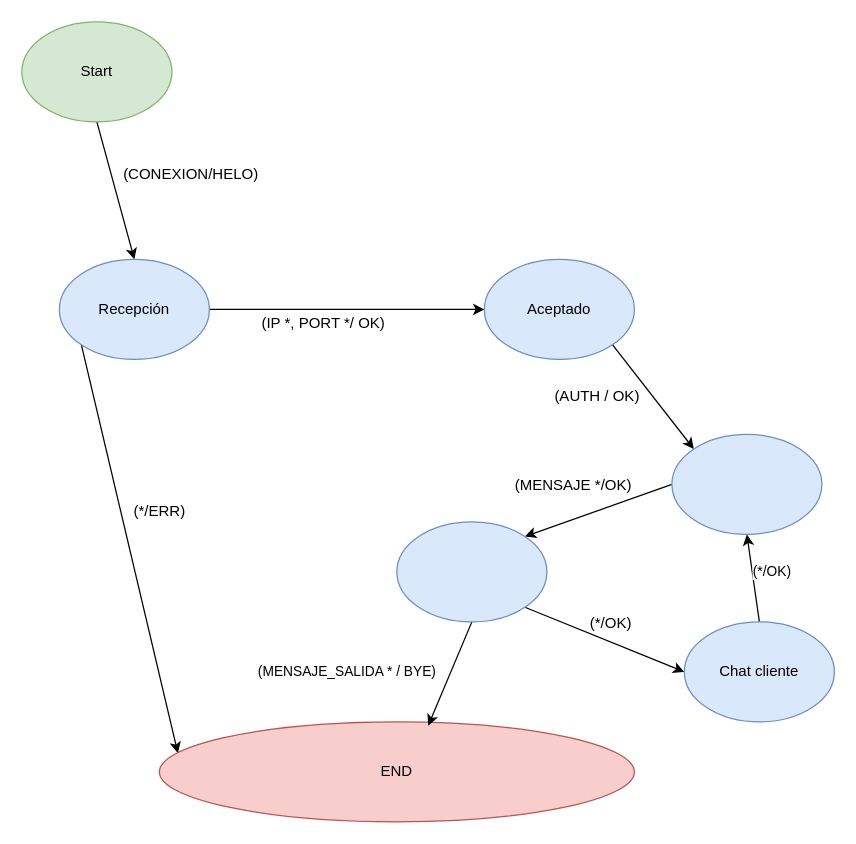
This 856x844 diagram has some shape labels left out. Each missing label, with the centre of its shape:
Mensajes: [746,483]
Mensajes servidor: [471,571]
